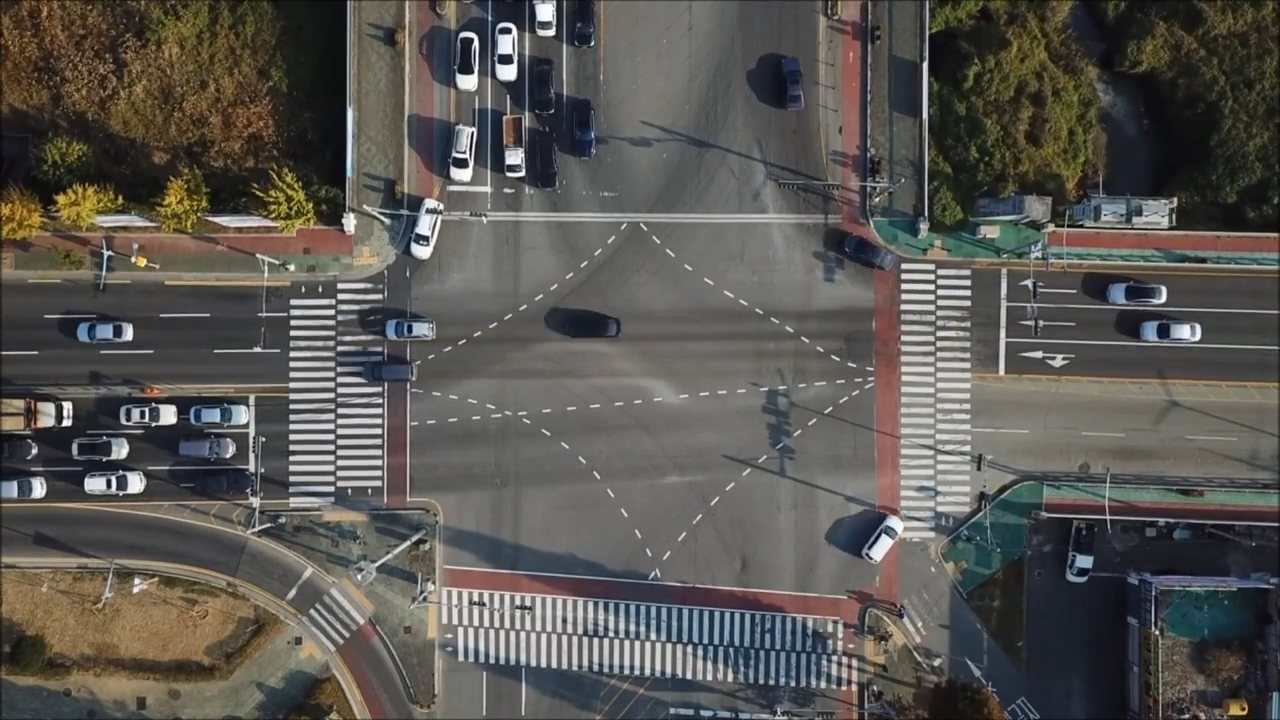car: (1, 396, 73, 433), (860, 512, 903, 566), (408, 196, 444, 259), (840, 233, 895, 274), (1067, 521, 1097, 586), (76, 316, 136, 347), (195, 468, 256, 498), (492, 21, 519, 85), (779, 57, 812, 109), (82, 471, 147, 496), (534, 124, 559, 189), (447, 123, 475, 181), (455, 30, 481, 92), (502, 113, 526, 175), (532, 55, 557, 114), (385, 314, 439, 340), (561, 316, 619, 340), (118, 406, 179, 428), (176, 436, 234, 459), (574, 102, 596, 162), (1138, 321, 1204, 341), (72, 437, 129, 460), (190, 405, 249, 426), (1108, 282, 1167, 303), (573, 1, 595, 50), (363, 362, 415, 381), (1, 476, 45, 497), (533, 1, 559, 36), (1, 438, 37, 460)
